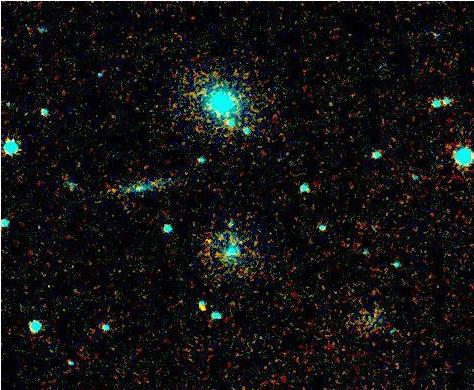star: (186, 294, 216, 324)
